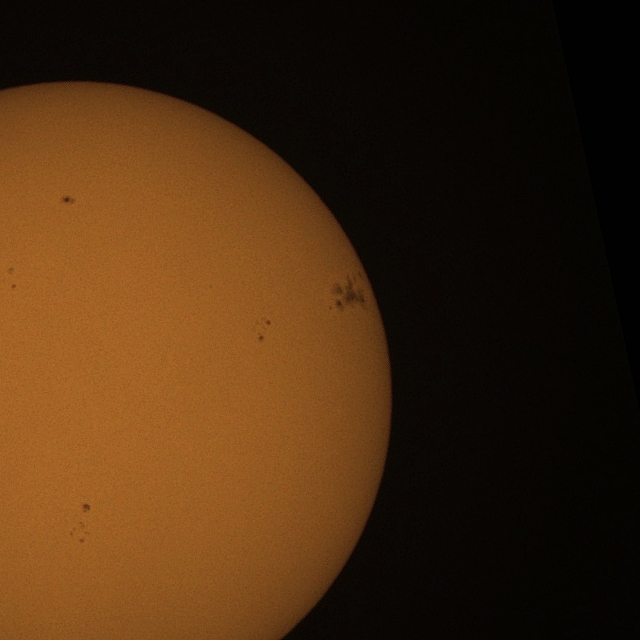sunspot: (330, 272, 369, 315), (255, 318, 270, 342), (69, 523, 87, 543), (1, 262, 23, 273), (61, 195, 75, 205), (11, 284, 17, 291)
